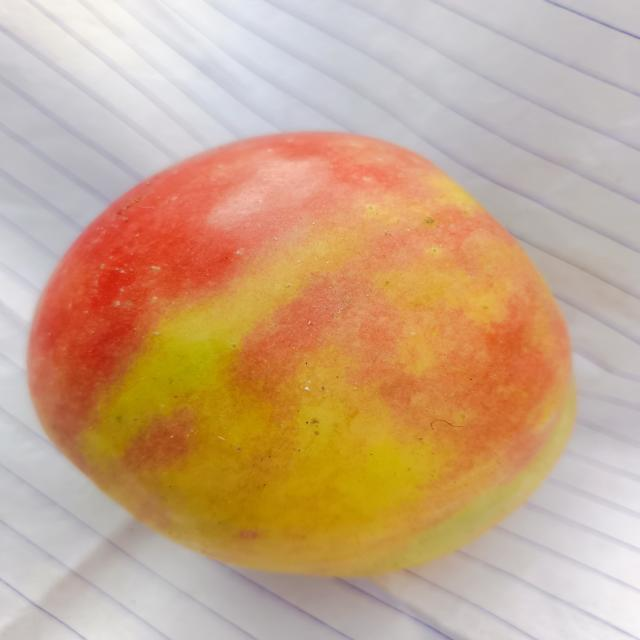Fresh Apple: (37, 137, 558, 580)
